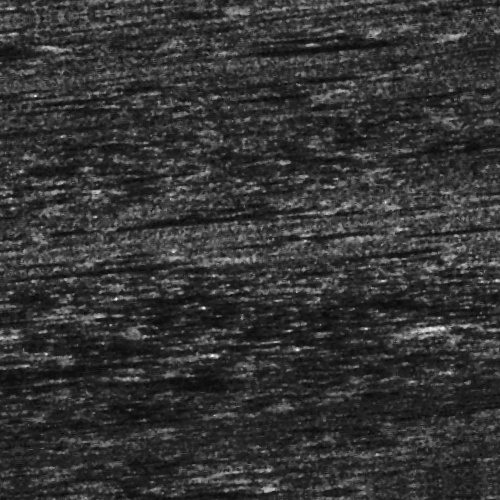object: (337, 335, 494, 350), (23, 292, 158, 303), (288, 209, 381, 222), (179, 252, 262, 259), (422, 48, 485, 57), (26, 21, 79, 30), (21, 496, 84, 500), (476, 244, 500, 249)
shadow: (137, 209, 334, 222), (282, 335, 415, 350), (293, 48, 453, 57), (47, 252, 220, 259), (0, 292, 90, 303), (388, 244, 500, 249), (0, 21, 53, 30), (0, 496, 53, 500)
